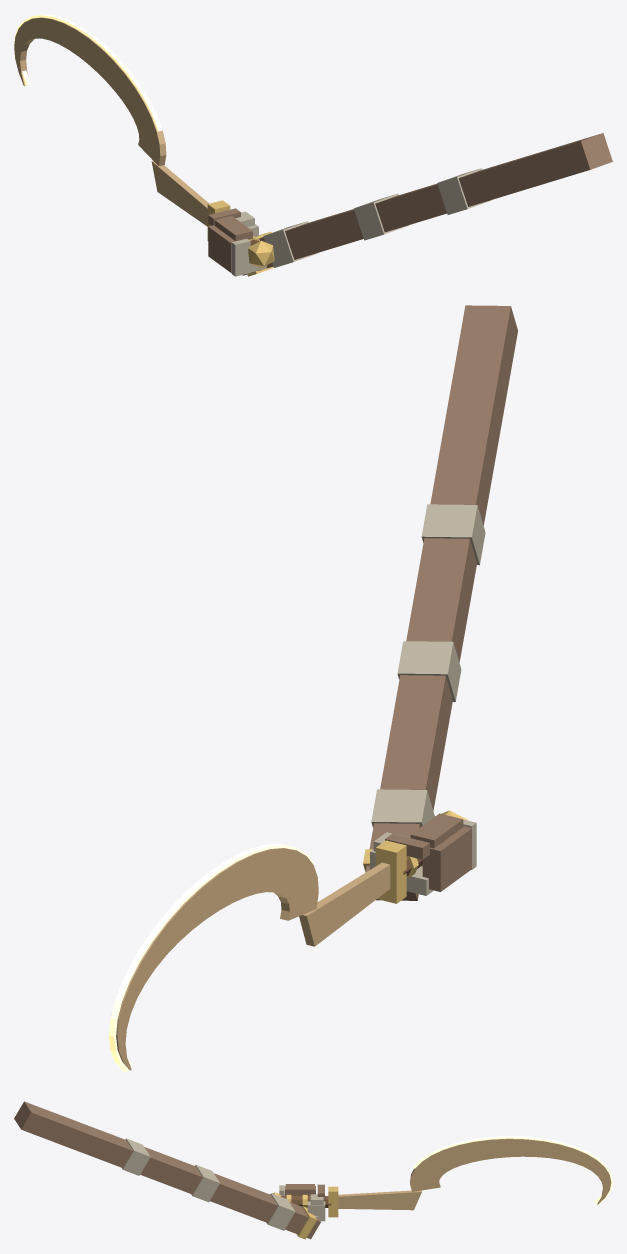
Rendered from sword.glb.
3 views of the same model, one above another, from view 1: azimuth 30°, elevation 25°; view 2: azimuth 150°, elevation 25°; view 3: azimuth 270°, elevation 25° (orthographic). The views are drawn at different scales.
Parts seen in each view (by area): view 1: KR_Forearm, K_Blade, K_Neck, K_Edge, KR_Wrap1, KR_Wrap2, KR_Fingers, KR_Wrap0, KR_Knuckles, KR_Tips, K_Pommel; view 2: KR_Forearm, K_Blade, K_Neck, K_Edge, KR_Wrap1, KR_Wrap2, KR_Fingers, KR_Wrap0, K_Guard, KR_Tips; view 3: KR_Forearm, K_Blade, K_Neck, K_Edge, KR_Wrap0, KR_Wrap1, KR_Wrap2, K_Guard, KR_Tips, KR_Bracelet, KR_Web.
Part boxes in pixels (bbox=[...]): KR_Forearm: bbox=[242, 133, 612, 275]; K_Blade: bbox=[14, 17, 166, 166]; K_Neck: bbox=[151, 161, 208, 226]; K_Edge: bbox=[14, 14, 162, 131]; KR_Wrap1: bbox=[354, 193, 408, 240]; KR_Wrap2: bbox=[437, 168, 491, 214]; KR_Fingers: bbox=[208, 225, 235, 272]; KR_Wrap0: bbox=[263, 221, 318, 267]; KR_Knuckles: bbox=[231, 238, 250, 276]; KR_Tips: bbox=[214, 216, 252, 240]; K_Pommel: bbox=[248, 240, 274, 267]; KR_Forearm: bbox=[365, 305, 517, 900]; K_Blade: bbox=[116, 848, 318, 1070]; K_Neck: bbox=[299, 862, 390, 946]; K_Edge: bbox=[109, 843, 313, 1072]; KR_Wrap1: bbox=[397, 641, 461, 701]; KR_Wrap2: bbox=[421, 504, 485, 565]; KR_Fingers: bbox=[422, 826, 471, 891]; KR_Wrap0: bbox=[371, 789, 434, 827]; K_Guard: bbox=[375, 840, 406, 903]; KR_Tips: bbox=[410, 813, 463, 848]; KR_Forearm: bbox=[14, 1101, 320, 1239]; K_Blade: bbox=[410, 1138, 611, 1204]; K_Neck: bbox=[338, 1190, 421, 1210]; K_Edge: bbox=[413, 1136, 612, 1204]; KR_Wrap0: bbox=[266, 1193, 295, 1230]; KR_Wrap1: bbox=[191, 1165, 219, 1202]; KR_Wrap2: bbox=[122, 1138, 150, 1175]; K_Guard: bbox=[328, 1186, 338, 1217]; KR_Tips: bbox=[285, 1184, 314, 1194]; KR_Bracelet: bbox=[296, 1206, 317, 1239]; KR_Web: bbox=[307, 1201, 325, 1221].
Bounding box in the file's own units: 0.3768 × 0.477 × 1.49.
